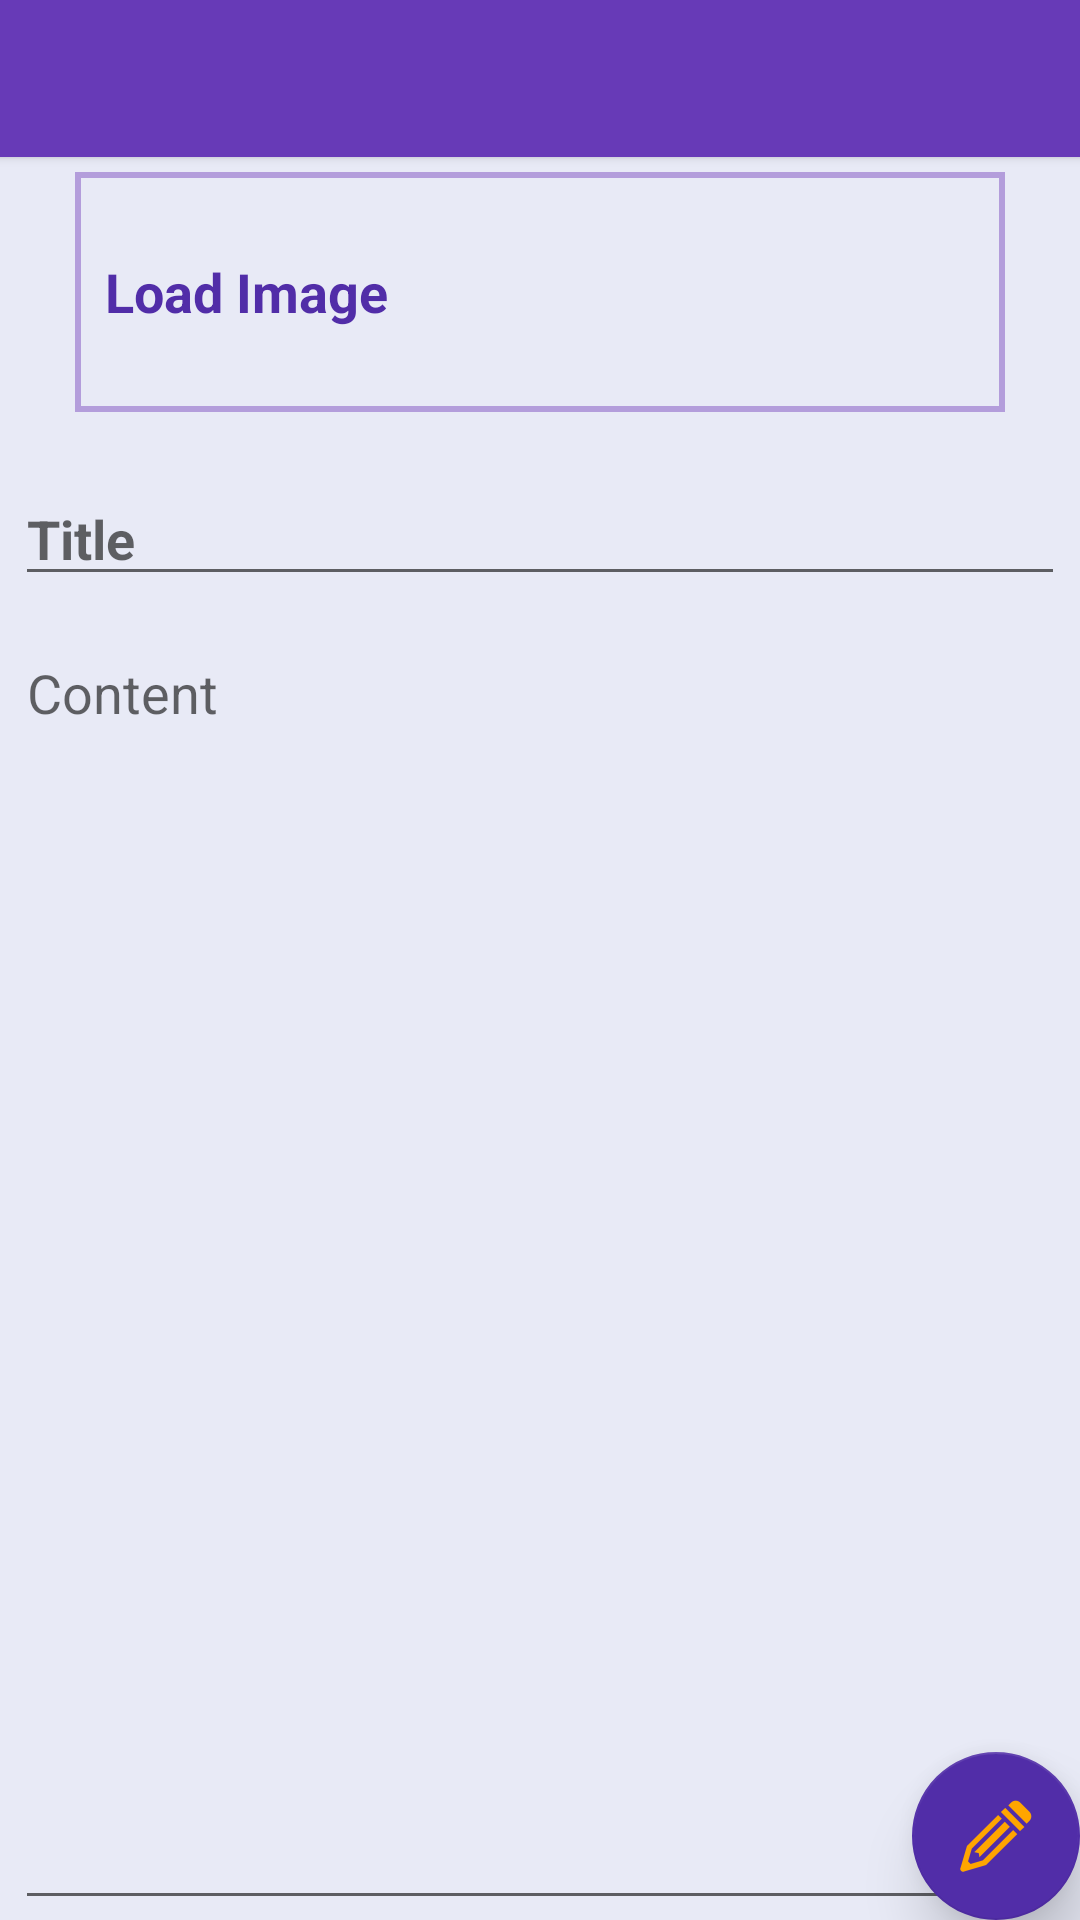

Icons on this 1080px×1920px Android screen, each with the point to tap as (x,y):
edit: (996,1836)
